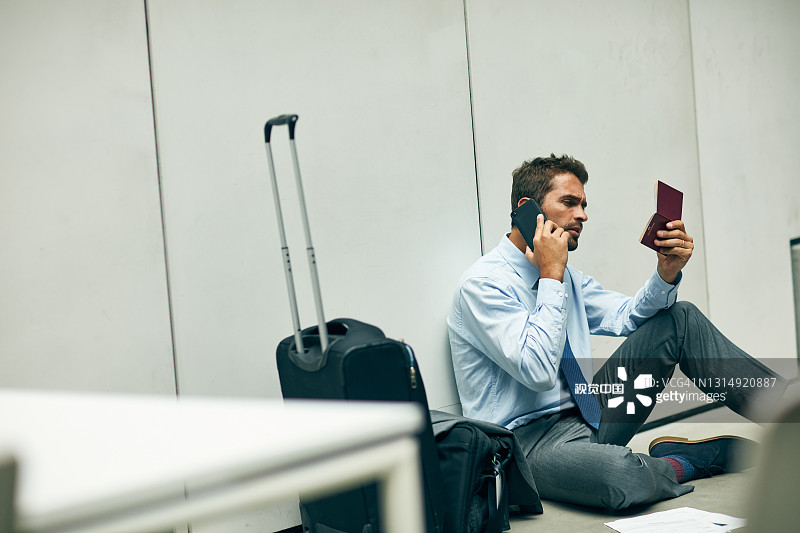calling: (504, 193, 576, 300)
no-phone: (632, 174, 706, 290)
